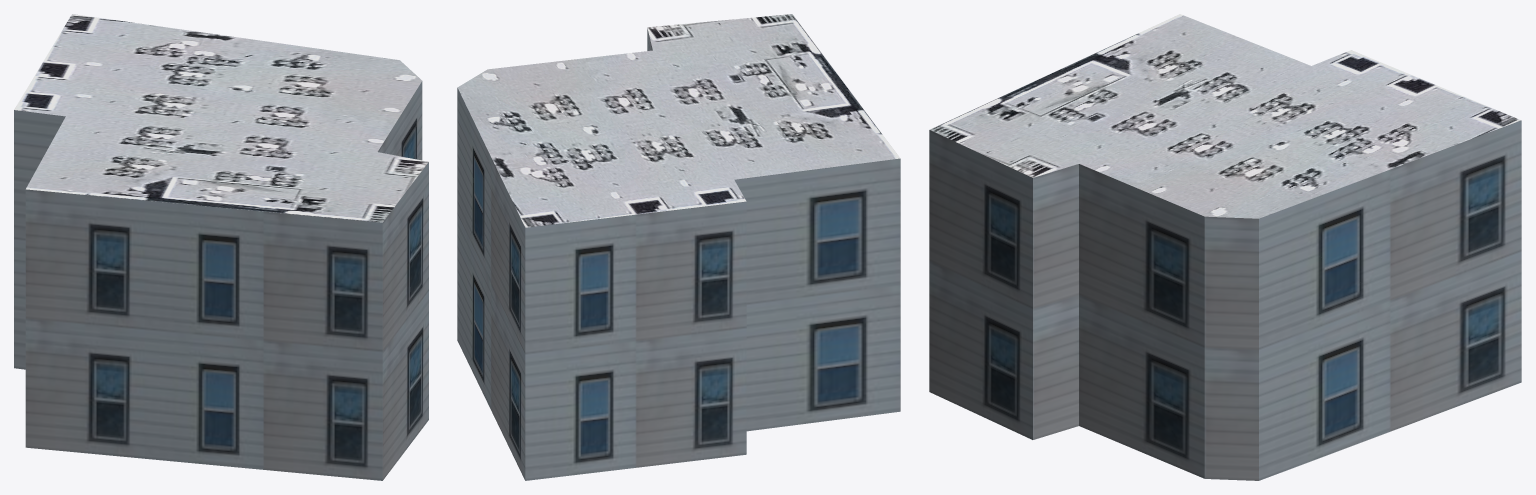
Rendered from ResTex__56.fbx.
3 renders of one model, left to right at view 1: azimuth 30°, elevation 25°; view 2: azimuth 150°, elevation 25°; view 3: azimuth 270°, elevation 25°, orthographic. The views are drawn at different scales.
Visible parts, largest first — view 1: CityEngineMaterial_18_m, CityEngineMaterial_m; view 2: CityEngineMaterial_18_m, CityEngineMaterial_m; view 3: CityEngineMaterial_18_m, CityEngineMaterial_m.
Part boxes in pixels (x1,y1,x2,y2): CityEngineMaterial_18_m: (14, 81, 428, 480); CityEngineMaterial_m: (14, 14, 428, 222); CityEngineMaterial_18_m: (457, 28, 900, 480); CityEngineMaterial_m: (457, 14, 900, 227); CityEngineMaterial_18_m: (929, 120, 1521, 480); CityEngineMaterial_m: (929, 14, 1520, 218).
Bounding box in the file's own units: 10.05 × 6 × 12.28.
2 materials, 2 textured.
